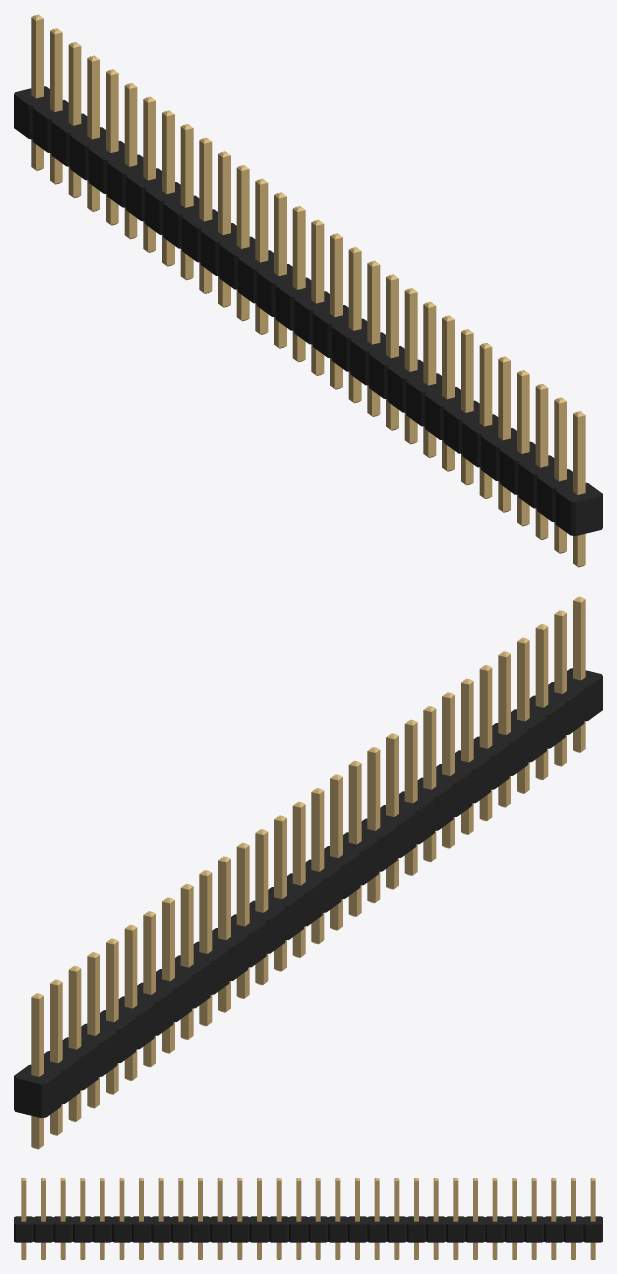
File: kc-pinheader_1x30_p2.54mm_vertical.glb
3 views of the same model, one above another, from view 1: azimuth 30°, elevation 25°; view 2: azimuth 150°, elevation 25°; view 3: azimuth 270°, elevation 25° (orthographic). The views are drawn at different scales.
Visible parts, largest first — view 1: 0.75_0.5_0.25_0.9, 0_0_0_0; view 2: 0.75_0.5_0.25_0.9, 0_0_0_0; view 3: 0_0_0_0, 0.75_0.5_0.25_0.9.
Part boxes in pixels (bbox=[...]): 0.75_0.5_0.25_0.9: bbox=[31, 14, 585, 567]; 0_0_0_0: bbox=[14, 86, 602, 535]; 0.75_0.5_0.25_0.9: bbox=[31, 596, 585, 1149]; 0_0_0_0: bbox=[14, 668, 602, 1117]; 0_0_0_0: bbox=[14, 1216, 602, 1242]; 0.75_0.5_0.25_0.9: bbox=[21, 1178, 595, 1259].
Size of the model in its own units: 0.2539 by 1.15 by 7.62.
